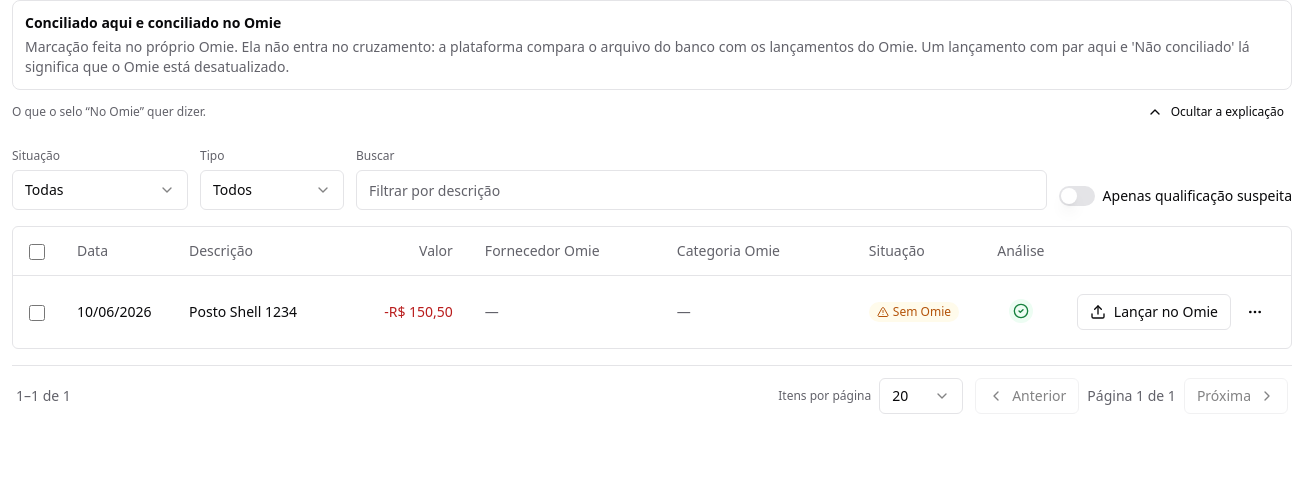
Aba de Movimentações — cartão › a barra de lote aparece com a contagem ao marcar uma compra
Check: the button "Lançar 1 compra no Omie" is not shown
Click the checkbox named "Selecionar a compra de": (37, 313) [29,305,45,321]
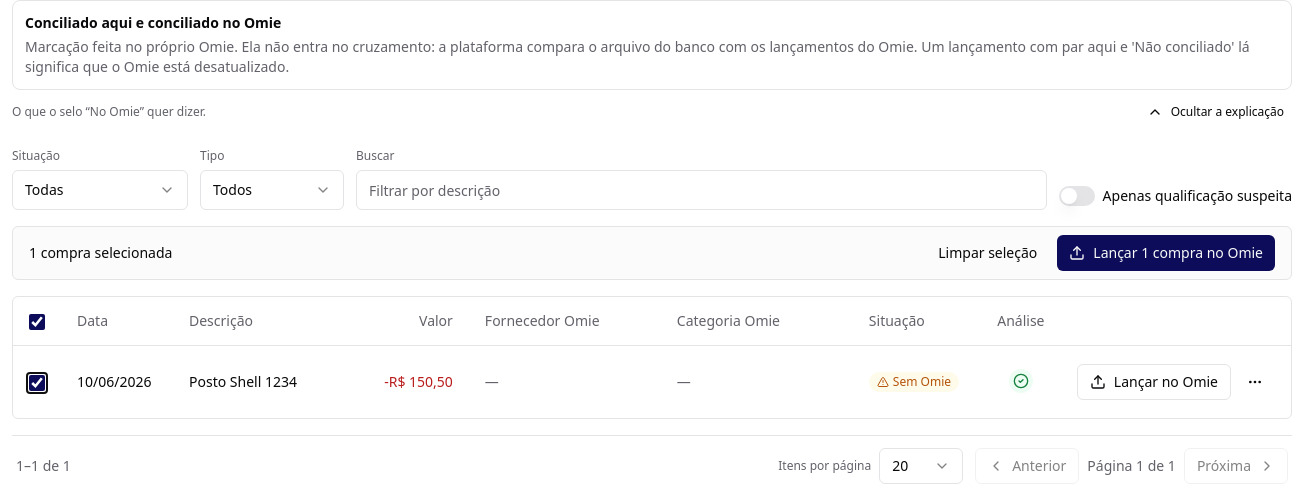
Check: the button "Lançar 1 compra no Omie" is enabled, box [1057,235,1275,271]
